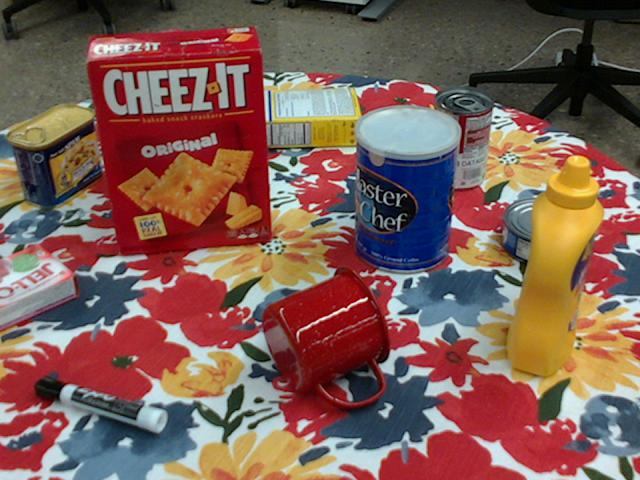cracker_box: (86, 27, 269, 252)
gelatin_box: (0, 244, 79, 331)
large_marker: (33, 374, 166, 432)
master_chef_can: (355, 106, 460, 275)
mug: (261, 266, 393, 408)
mustard_bottle: (506, 155, 603, 376)
potted_meat_can: (6, 103, 100, 208)
sugar_box: (219, 88, 360, 150)
tomato_soup_can: (430, 87, 493, 191)
tuna_fish_can: (501, 199, 587, 268)
